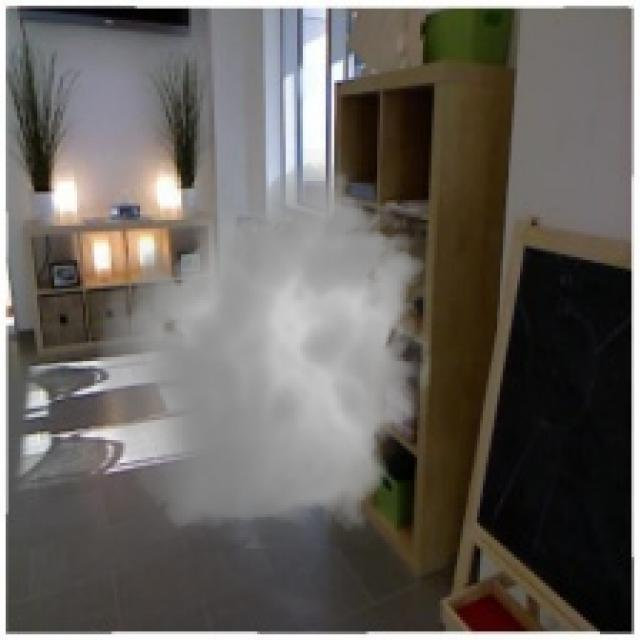Smoke: (86, 148, 446, 548)
